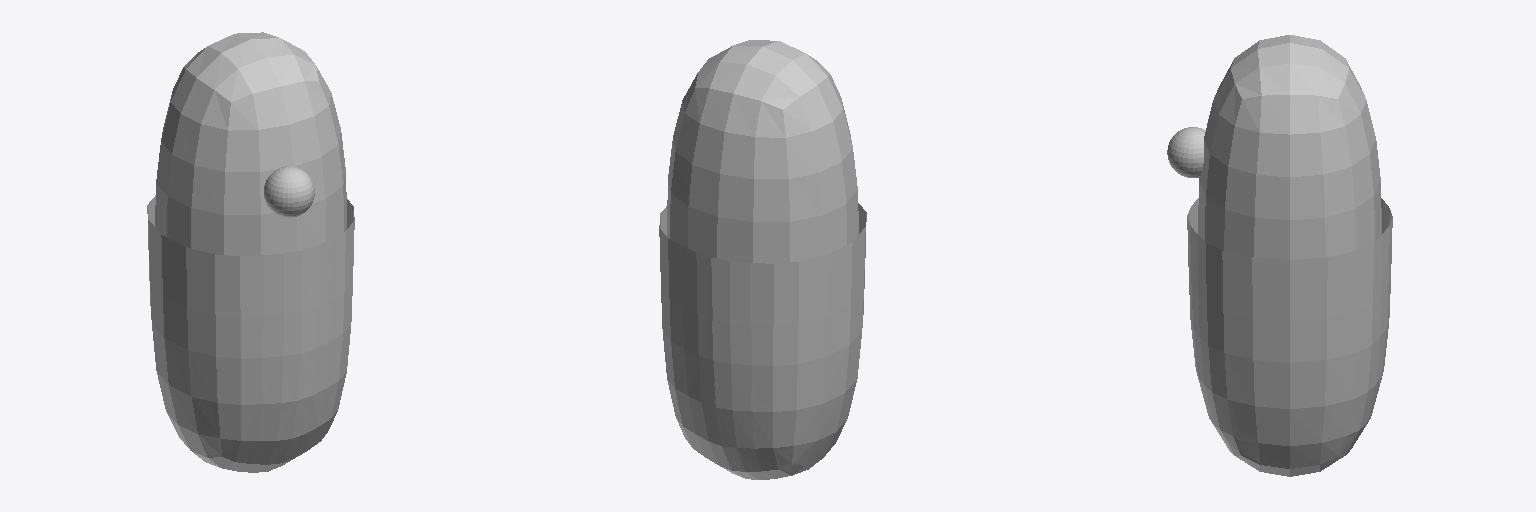
File: bosscharacter.obj
3 renders of one model, left to right at view 1: azimuth 30°, elevation 25°; view 2: azimuth 150°, elevation 25°; view 3: azimuth 270°, elevation 25°, orthographic.
Visible parts, largest first — view 1: Cube.001_Cube.002, Cube_Cube.001, Sphere; view 2: Cube.001_Cube.002, Cube_Cube.001; view 3: Cube.001_Cube.002, Cube_Cube.001, Sphere.
Part boxes in pixels (left/top/right/bottom): Cube.001_Cube.002: left=147, top=195, right=354, bottom=472; Cube_Cube.001: left=155, top=32, right=346, bottom=256; Sphere: left=264, top=166, right=314, bottom=217; Cube.001_Cube.002: left=659, top=203, right=866, bottom=479; Cube_Cube.001: left=667, top=40, right=858, bottom=263; Cube.001_Cube.002: left=1187, top=198, right=1392, bottom=476; Cube_Cube.001: left=1198, top=35, right=1381, bottom=259; Sphere: left=1167, top=127, right=1205, bottom=177.
Bounding box in the file's own units: 1.2 × 2.73 × 1.31.